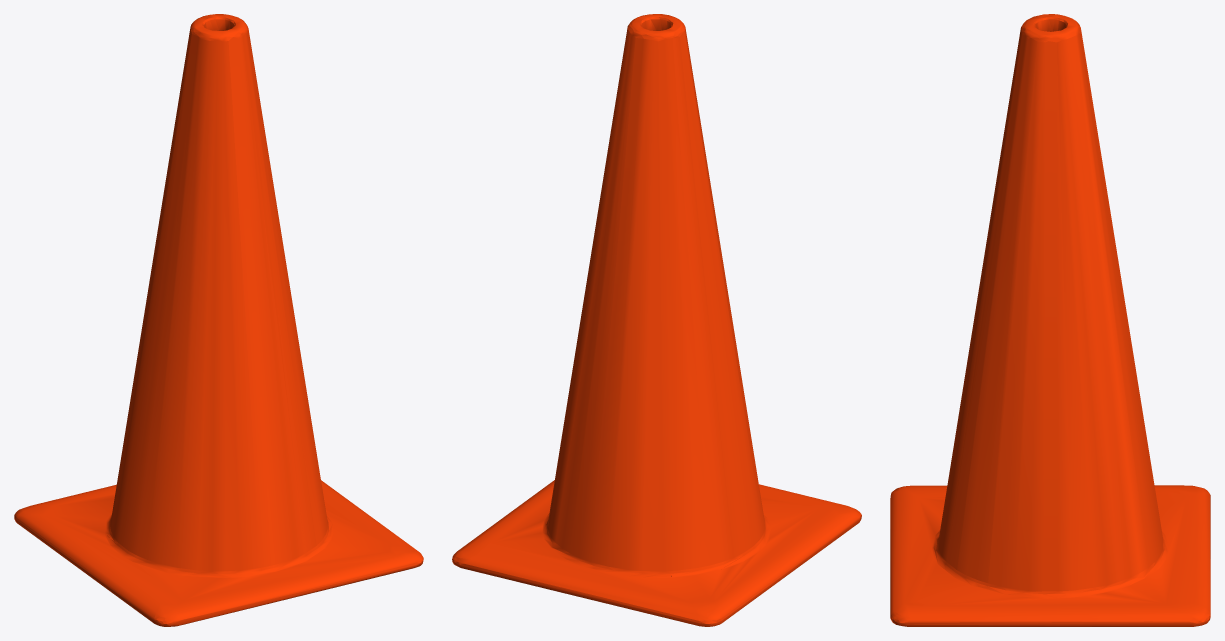
File: trafficcone_a04.glb
3 renders of one model, left to right at view 1: azimuth 30°, elevation 25°; view 2: azimuth 150°, elevation 25°; view 3: azimuth 270°, elevation 25°, orthographic. The views are drawn at different scales.
Parts seen in each view (by area): view 1: root; view 2: root; view 3: root.
Boxes of the visible parts, bbox=[...] form: root: bbox=[14, 14, 423, 626]; root: bbox=[452, 14, 861, 626]; root: bbox=[890, 14, 1210, 626].
Size of the model in its own units: 0.3805 by 0.7097 by 0.3805.
